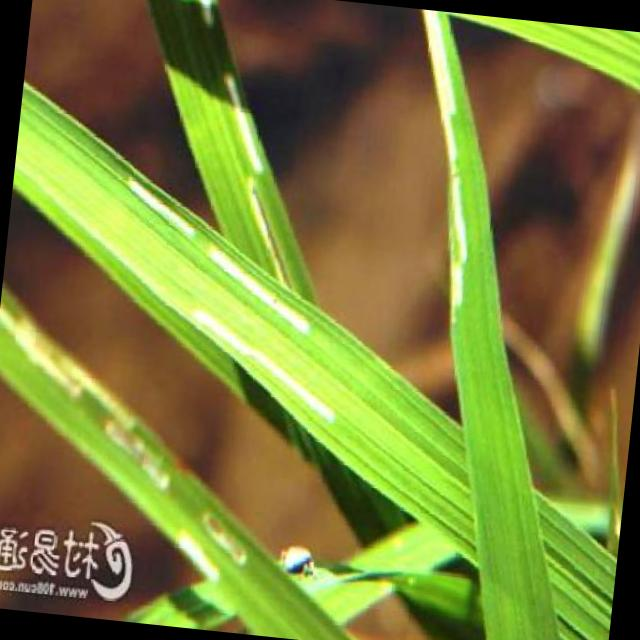rice-bug: (274, 542, 322, 578)
